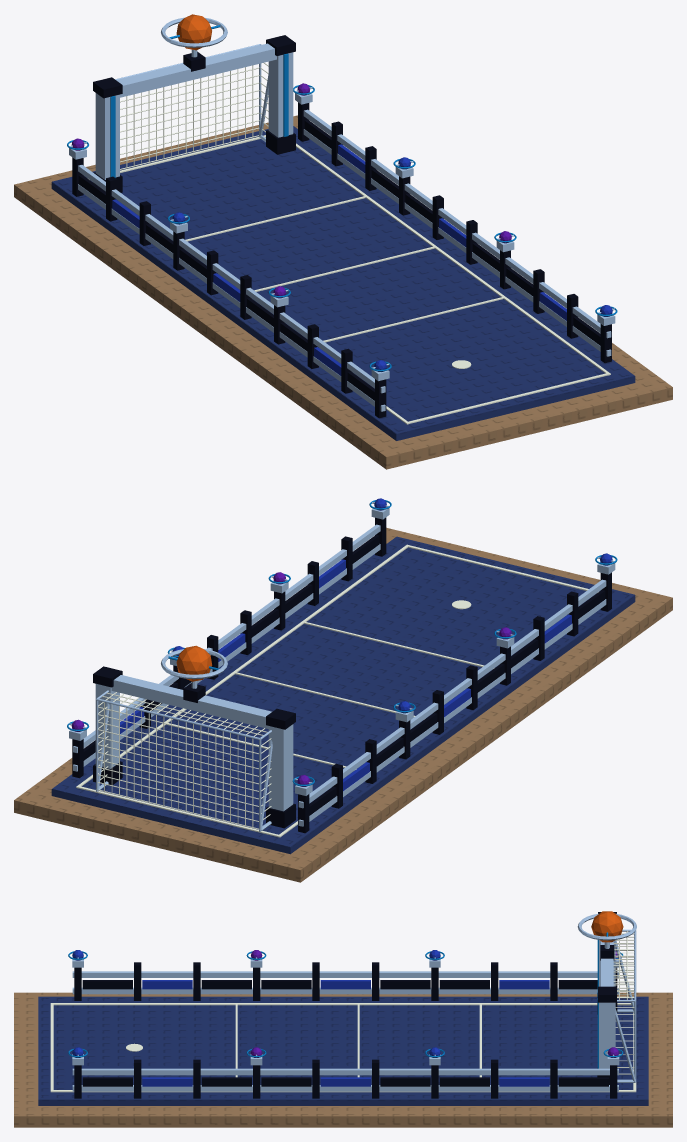
File: cosmic-field.fbx
3 renders of one model, top to bottom at view 1: azimuth 30°, elevation 25°; view 2: azimuth 150°, elevation 25°; view 3: azimuth 270°, elevation 25°, orthographic. The views are drawn at different scales.
Parts seen in each view (by area): view 1: SF_Diamond_Turf, SF_Earth_Base, SF_Steel_Rails, SF_Fence_Posts, SF_Grass_Bed, SF_White_Markings, SF_Goal_Net, SF_Steel_Goal, SF_Goal_Column.001, SF_Goal_Column, SF_Saturn; view 2: SF_Diamond_Turf, SF_Earth_Base, SF_Steel_Rails, SF_Goal_Net, SF_Fence_Posts, SF_Grass_Bed, SF_White_Markings, SF_Steel_Goal, SF_Goal_Column, SF_Goal_Column.001, SF_Net_Rear_Frame, SF_Saturn (+2 smaller); view 3: SF_Diamond_Turf, SF_Earth_Base, SF_Steel_Rails, SF_Fence_Posts, SF_White_Markings, SF_Grass_Bed, SF_Goal_Net, SF_Goal_Column.001, SF_Saturn, SF_Goal_Supports, SF_Sideline_Panel.001, SF_Sideline_Panel.003 (+19 smaller).
Boxes of the visible parts, left/top/right/bottom form: SF_Diamond_Turf: left=52, top=126, right=634, bottom=433; SF_Earth_Base: left=14, top=115, right=672, bottom=469; SF_Steel_Rails: left=78, top=109, right=611, bottom=411; SF_Fence_Posts: left=72, top=102, right=611, bottom=418; SF_Grass_Bed: left=51, top=182, right=635, bottom=440; SF_White_Markings: left=89, top=135, right=610, bottom=424; SF_Goal_Net: left=120, top=54, right=268, bottom=169; SF_Steel_Goal: left=116, top=43, right=276, bottom=97; SF_Goal_Column.001: left=268, top=52, right=293, bottom=137; SF_Goal_Column: left=95, top=93, right=119, bottom=179; SF_Saturn: left=176, top=14, right=211, bottom=50; SF_Diamond_Turf: left=52, top=536, right=634, bottom=846; SF_Earth_Base: left=14, top=527, right=672, bottom=882; SF_Steel_Rails: left=73, top=524, right=606, bottom=826; SF_Goal_Net: left=98, top=692, right=271, bottom=829; SF_Fence_Posts: left=72, top=517, right=611, bottom=833; SF_Grass_Bed: left=51, top=595, right=635, bottom=854; SF_White_Markings: left=76, top=544, right=598, bottom=837; SF_Steel_Goal: left=111, top=675, right=271, bottom=728; SF_Goal_Column: left=268, top=724, right=293, bottom=811; SF_Goal_Column.001: left=95, top=683, right=119, bottom=768; SF_Net_Rear_Frame: left=96, top=690, right=271, bottom=831; SF_Saturn: left=176, top=645, right=212, bottom=681; SF_Diamond_Turf: left=38, top=996, right=648, bottom=1099; SF_Earth_Base: left=14, top=992, right=672, bottom=1127; SF_Steel_Rails: left=72, top=971, right=618, bottom=1091; SF_Fence_Posts: left=74, top=962, right=617, bottom=1098; SF_White_Markings: left=50, top=1003, right=636, bottom=1092; SF_Grass_Bed: left=38, top=1100, right=648, bottom=1105; SF_Goal_Net: left=613, top=930, right=634, bottom=1074; SF_Goal_Column.001: left=599, top=1002, right=615, bottom=1068; SF_Saturn: left=591, top=911, right=623, bottom=942; SF_Goal_Supports: left=615, top=940, right=636, bottom=1082; SF_Sideline_Panel.001: left=142, top=980, right=192, bottom=989; SF_Sideline_Panel.003: left=261, top=980, right=311, bottom=989.
Size of the model in its own units: 960 by 555 by 2160.
9 materials, 9 textured.
